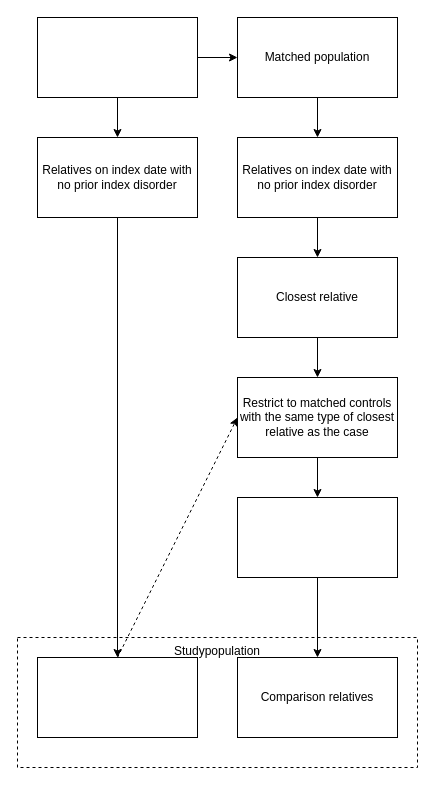
Some shapes in this 435 by 785 pixel diagram are drawn without their labels. The shapes that lost their labels are listed below. From the top down, each one's centre as x and y in pixels, then its label:
At (117,57): "Incident/prevalent brain disorder cohort".
At (317,537): "Pick random control".
At (117,697): "Closest family relatives".
